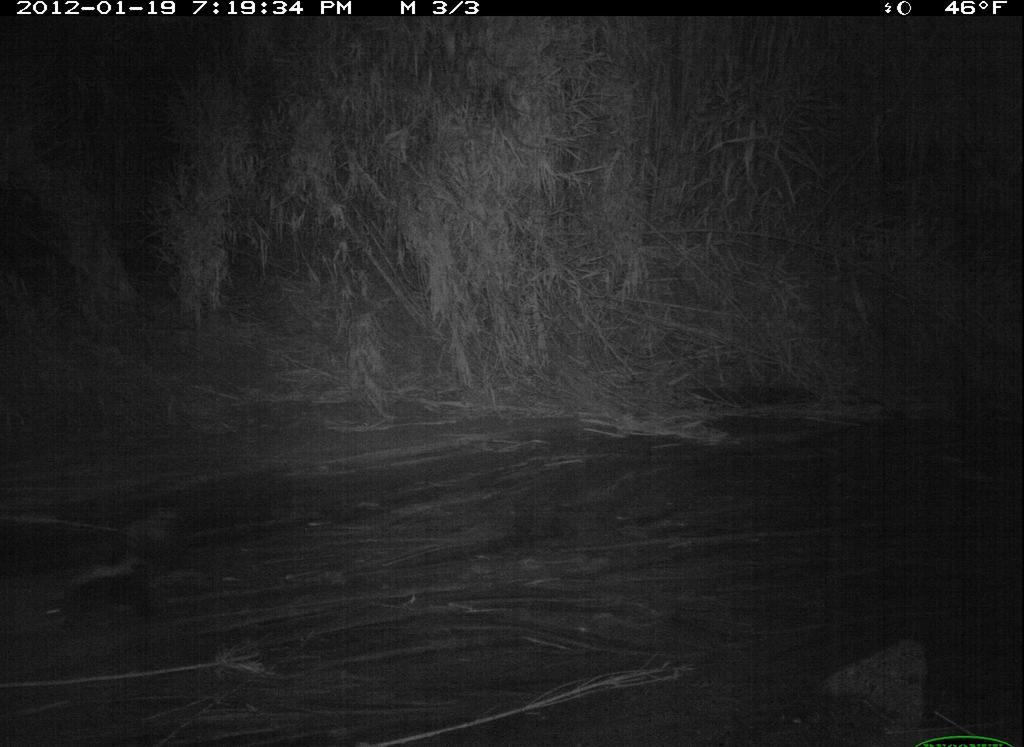skunk: (40, 507, 187, 643)
